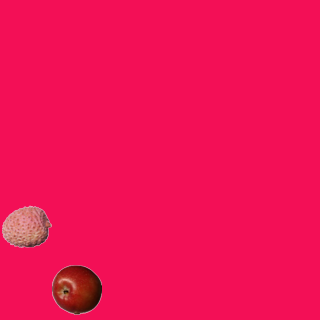Apple Braeburn: (51, 264, 101, 314)
Lychee: (1, 201, 51, 251)
